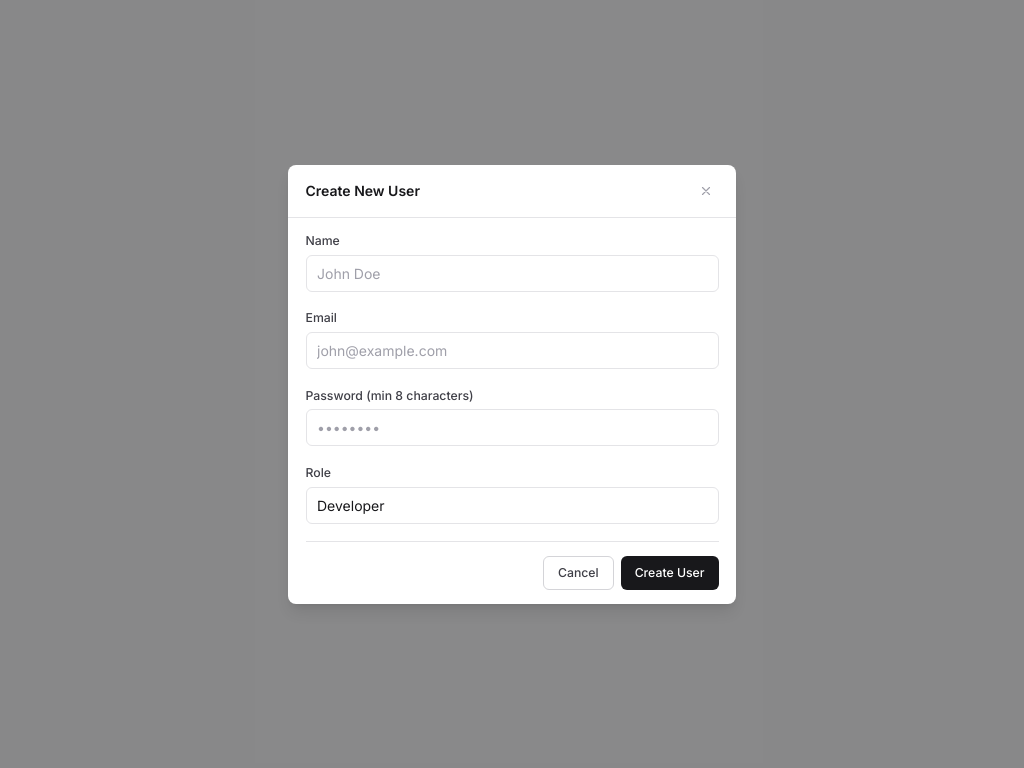
Test: UserFormModal › shows no pods message when pods array is empty
# Select Manager role to show pods section
Select "Manager" in the dropdown labelled "Role" at (512, 505), box [306,486,718,524]
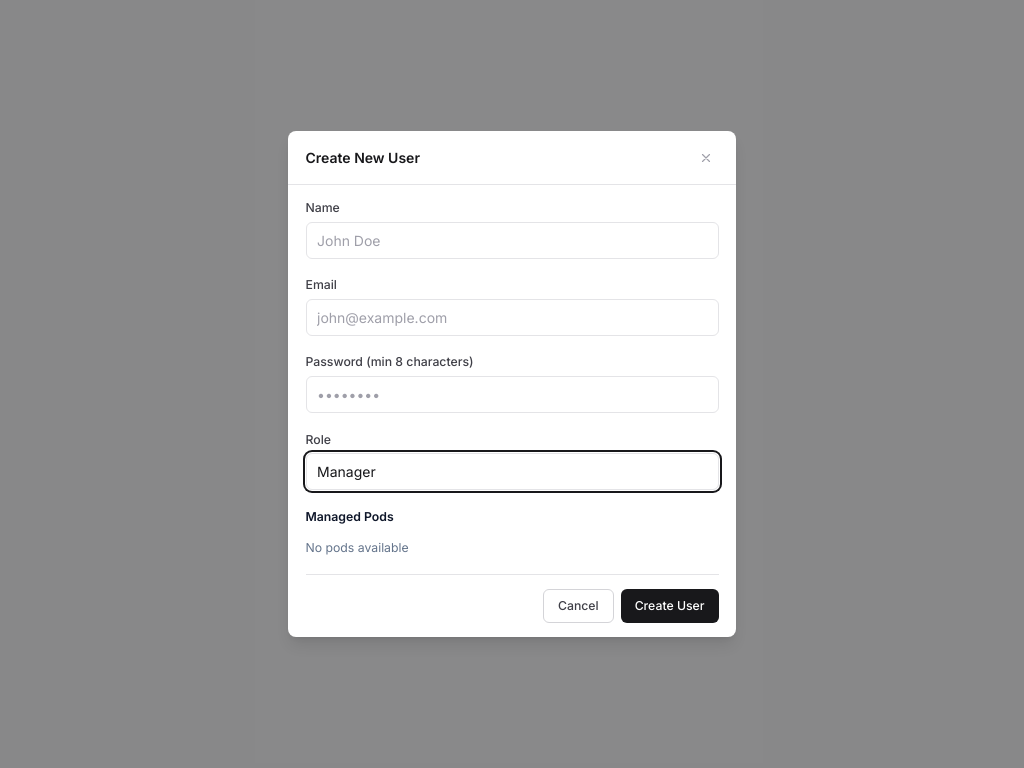
Now the text "No pods available" is shown, box [306,540,409,555]
